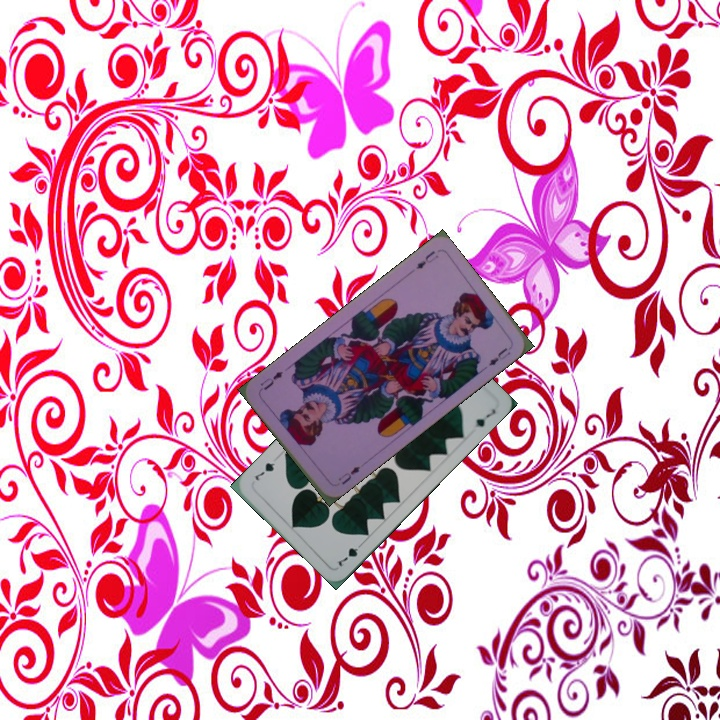EU: (411, 246, 441, 272), (334, 462, 363, 487)
G7: (332, 538, 367, 569)
